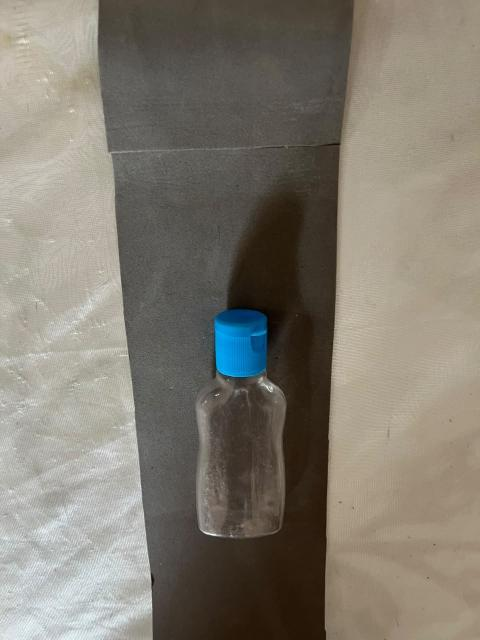PET: (172, 282, 310, 572)
